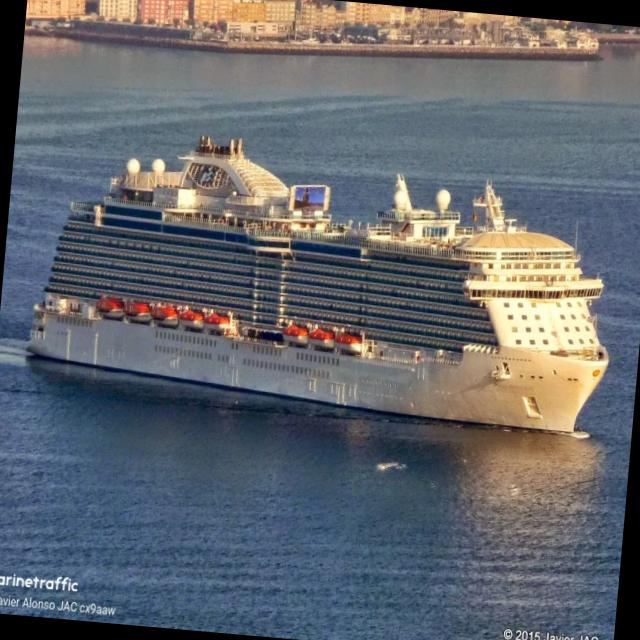Cruise: (26, 135, 607, 434)
